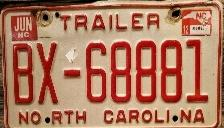1: (185, 38, 210, 103)
6: (85, 40, 110, 102)
8: (110, 40, 133, 105), (135, 39, 158, 104), (160, 39, 183, 104)
B: (12, 42, 36, 106)
X: (35, 41, 62, 106)
